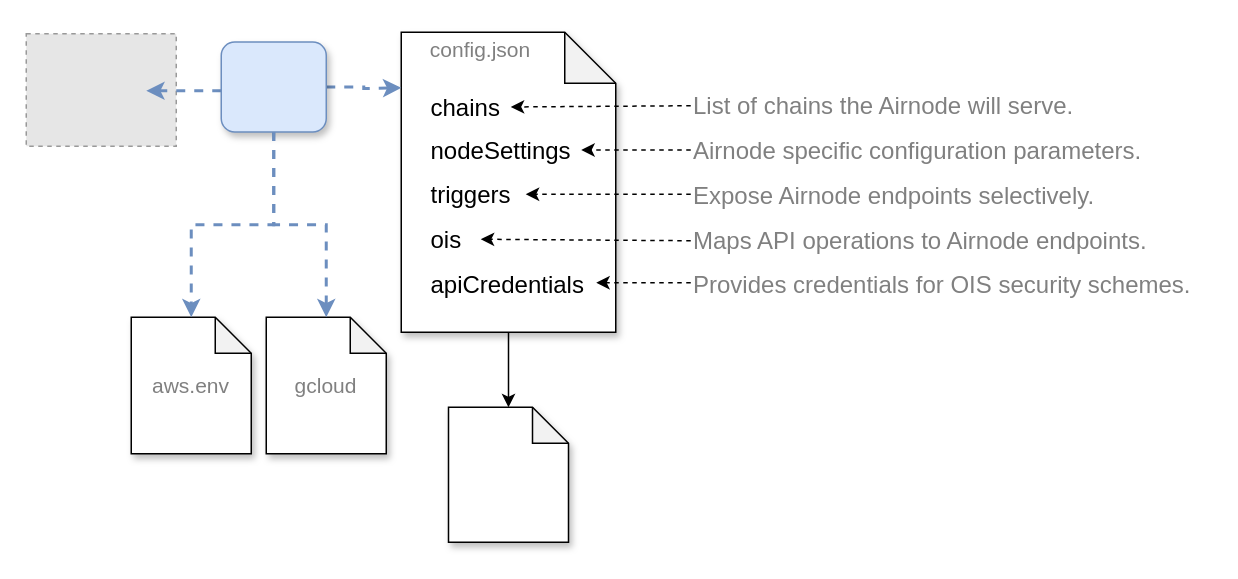
This 1238x579 diagram has some shape labels left out. Grey dashed boxes stand in for pictures. Here are the shapes that lost their labels. From the top down, the centre of each, then its label:
At [274,88]: "Docker Deployer".
At [509,476]: "secrets.env".
